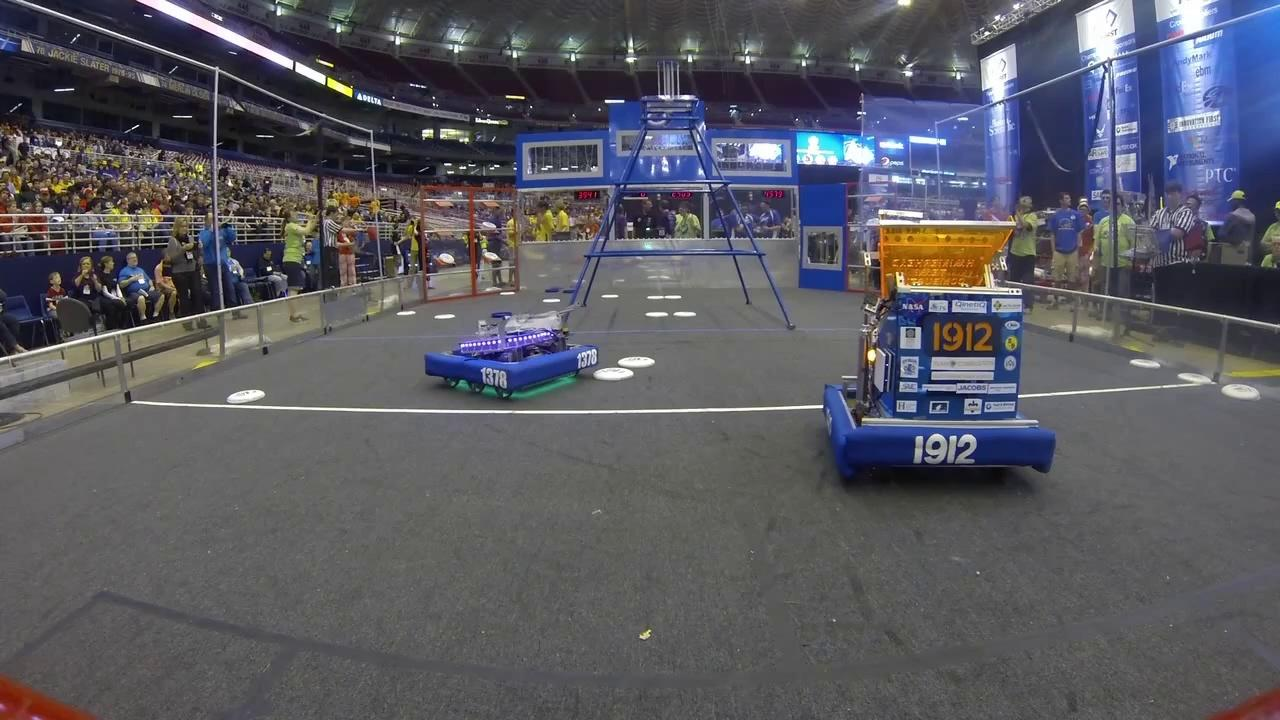robot: (822, 207, 1059, 485), (420, 303, 603, 402)
